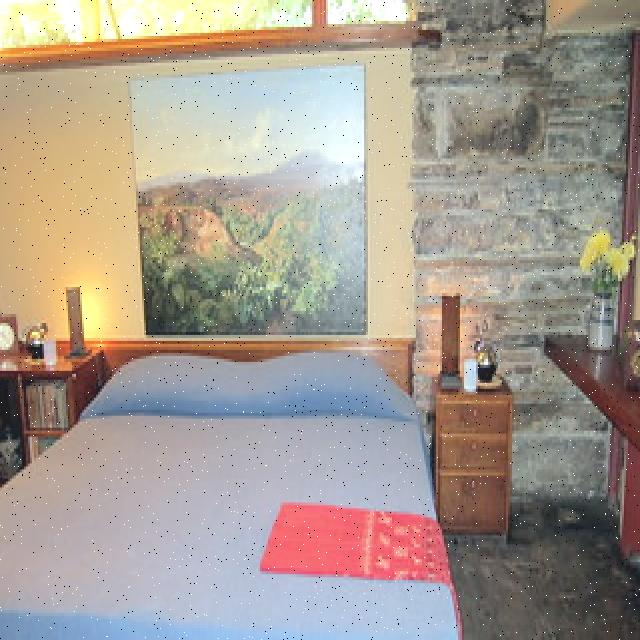bed: (19, 325, 430, 640)
